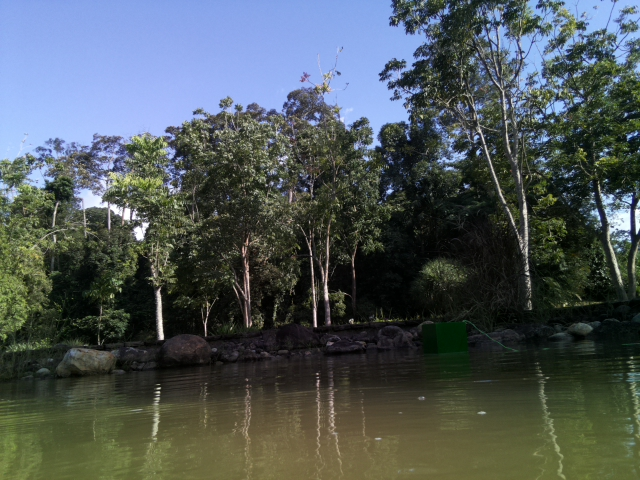obstacle: (419, 319, 470, 356)
